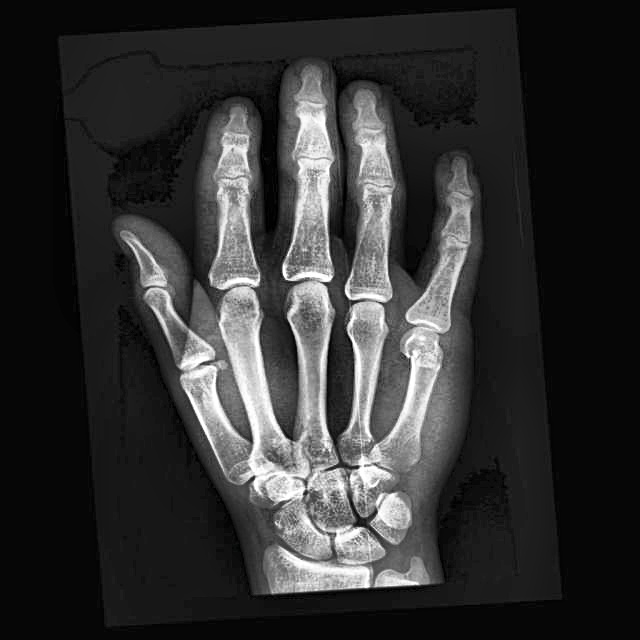Comminuted: (398, 321, 448, 379)
